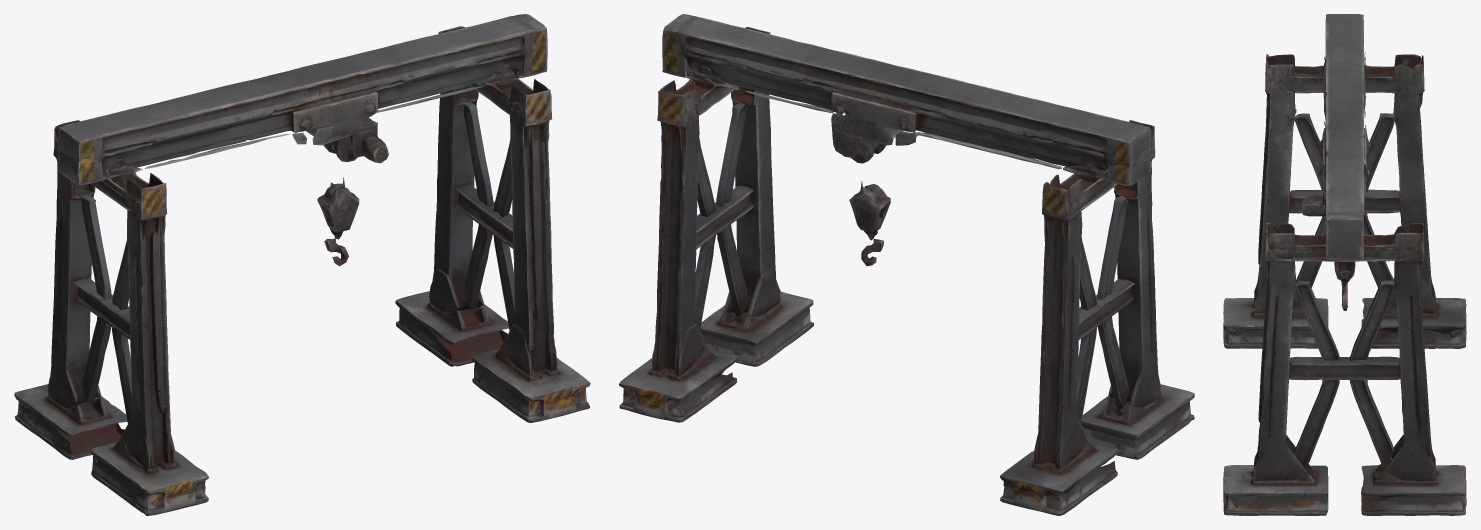
File: freight-gantry.glb
3 renders of one model, left to right at view 1: azimuth 30°, elevation 25°; view 2: azimuth 150°, elevation 25°; view 3: azimuth 270°, elevation 25°, orthographic. The views are drawn at different scales.
Parts seen in each view (by area): view 1: Body, Trolley, Hoist; view 2: Body, Trolley, Hoist; view 3: Body, Trolley, Hoist.
Part boxes in pixels (x1,y1,x2,y2): Body: [14, 14, 590, 515]; Trolley: [306, 118, 388, 163]; Hoist: [317, 177, 359, 266]; Body: [619, 14, 1194, 515]; Trolley: [831, 105, 903, 163]; Hoist: [849, 181, 890, 266]; Body: [1223, 14, 1466, 515]; Trolley: [1301, 168, 1370, 216]; Hoist: [1334, 261, 1355, 310].
Bounding box in the file's own units: 2 × 1.37 × 0.9987.
1 material, 1 textured.
